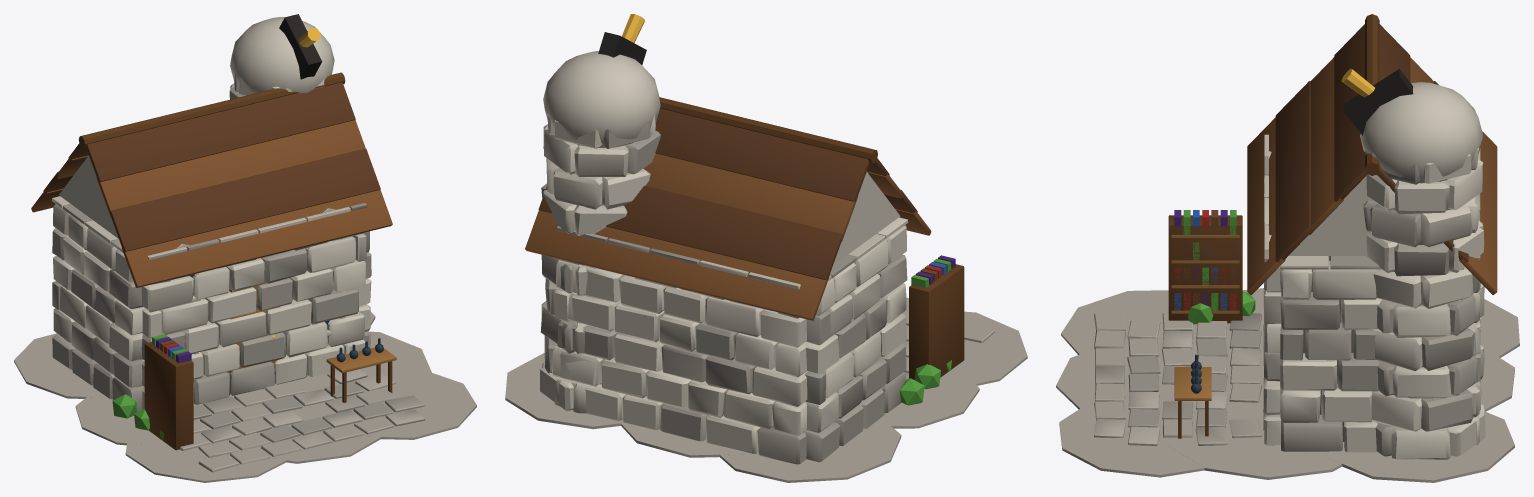
Rendered from akademia_poz12.glb.
3 views of the same model, side by side, from view 1: azimuth 30°, elevation 25°; view 2: azimuth 150°, elevation 25°; view 3: azimuth 270°, elevation 25° (orthographic). The views are drawn at different scales.
Visible parts, largest first — view 1: akademia_poz12; view 2: akademia_poz12; view 3: akademia_poz12.
Part boxes in pixels (left/top/right/bottom): akademia_poz12: left=14, top=14, right=476, bottom=482; akademia_poz12: left=505, top=14, right=1027, bottom=482; akademia_poz12: left=1056, top=14, right=1519, bottom=482.
Bounding box in the file's own units: 7.44 × 6.7 × 7.51.
